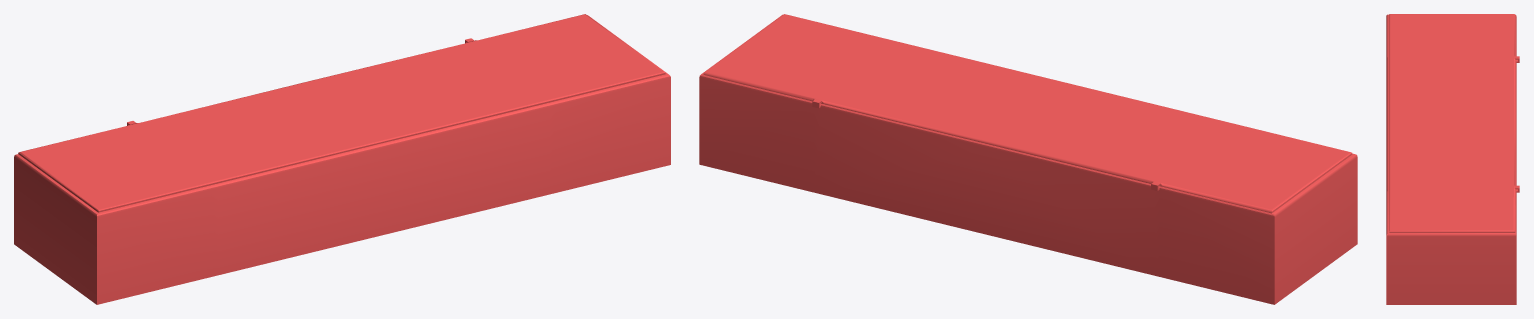
The model's file is Weapon Crate.FBX.
The picture shows the model from 3 angles, left to right: view 1: azimuth 30°, elevation 25°; view 2: azimuth 150°, elevation 25°; view 3: azimuth 270°, elevation 25°; orthographic projection. The views are drawn at different scales.
Visible parts, largest first — view 1: Bak, Deksel; view 2: Bak, Deksel; view 3: Deksel, Bak.
Part boxes in pixels (x1,y1,x2,y2): Bak: (14, 15, 670, 304); Deksel: (18, 14, 665, 212); Bak: (699, 14, 1357, 304); Deksel: (703, 14, 1352, 213); Deksel: (1389, 14, 1515, 232); Bak: (1386, 14, 1519, 304).
Size of the model in its own units: 200 by 30.83 by 51.19.
